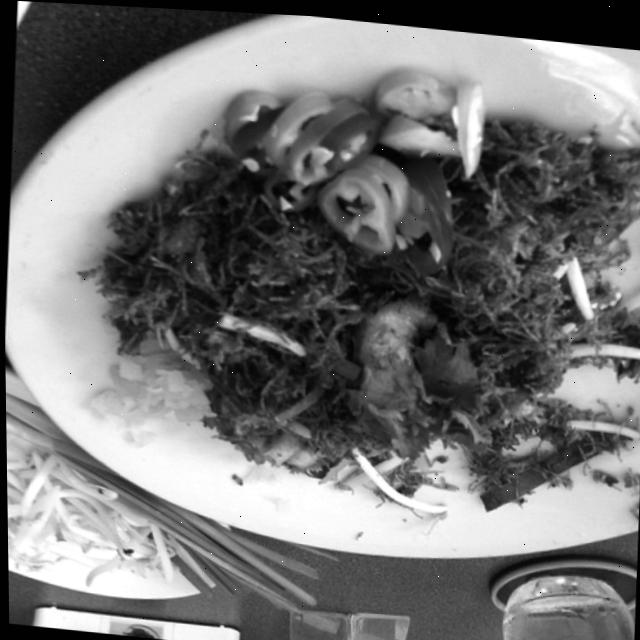面条主食: (83, 62, 640, 543)
